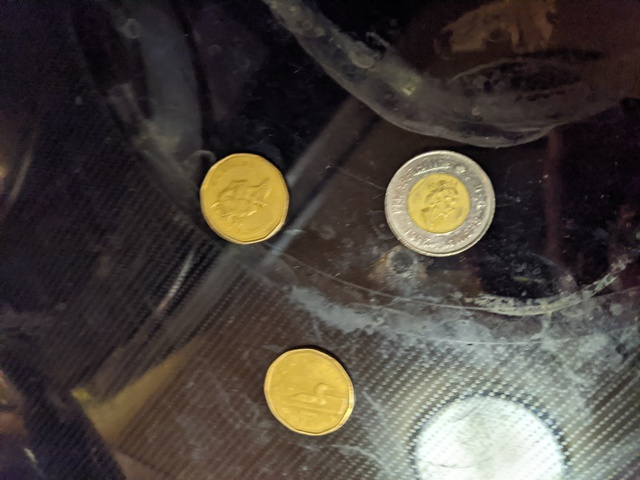loonie: (194, 148, 304, 244), (259, 345, 361, 438)
twonie: (367, 139, 491, 276)
